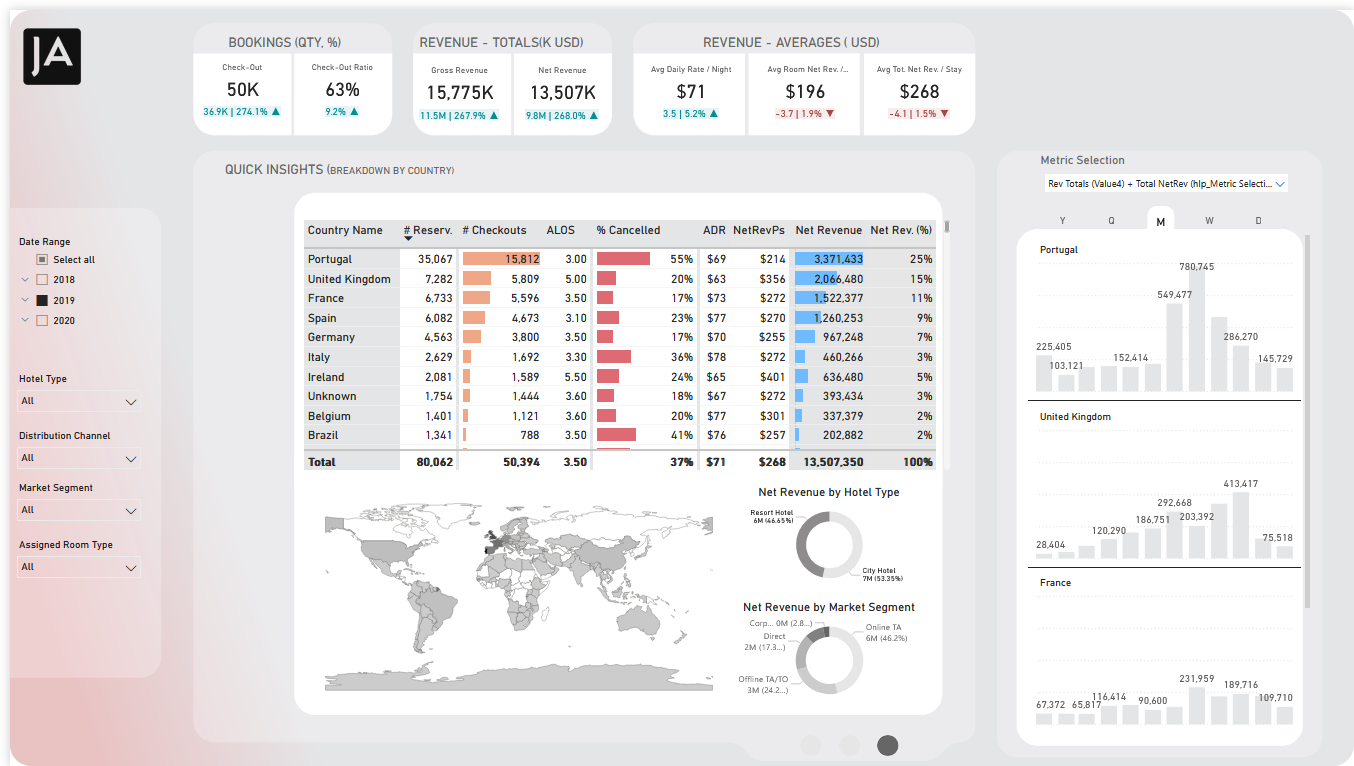

The dashboard page shown, as its layout file describes it:
{"tool":"powerbi","page":{"name":"03","canvas":[1920,1080],"ordinal":2},"visuals":[{"type":"slicer","fields":{"Values":["dim_Calendar.Year","dim_Calendar.MonthShortName"]},"box":[0,315.7,195.7,281.4],"z":0},{"type":"slicer","fields":{"Values":["dim_Hotel Type.Hotel Type"]},"box":[0,511.1,197,82],"z":2000},{"type":"slicer","fields":{"Values":["dim_Distribution Channel.Distribution Channel"]},"box":[0,593.1,197,81],"z":3000},{"type":"slicer","fields":{"Values":["dim_Market Segment.Market Segment"]},"box":[0,667.1,197,82],"z":4000},{"type":"slicer","fields":{"Values":["dim_Assigned Room Type.Assigned Room Type"]},"box":[0,749.1,197,82],"z":5000},{"type":"image","box":[11.4,20,98.6,91.4],"z":6000},{"type":"textbox","box":[294.3,30,195.7,57.1],"z":7000},{"type":"textbox","box":[578,30,246,57],"z":8000},{"type":"textbox","box":[961,30,309,57],"z":9000},{"type":"tableEx","fields":{"Values":["dim_Countries.Country Name","Measures Table.Sep","Measures Table.Reservations","Measures Table.Sep","Measures Table.Checkouts","Measures Table.ALOS","Measures Table.Sep","Measures Table.Cancelled %","Measures Table.Sep","Measures Table.Avg Daily Rate / Night","Measures Table.Avg Tot. Net Rev. / Stay","Measures Table.Sep"]},"box":[414.3,294.3,934.3,368.6],"z":10000},{"type":"textbox","box":[294.3,211.4,352.9,38.6],"z":11000},{"type":"shapeMap","fields":{"Value":["Measures Table.Net Revenue"],"Category":["dim_Countries.Country Name"]},"box":[414.3,674.3,624.3,331.4],"z":12000},{"type":"advancedSlicerVisual","title":"Granularity","fields":{"Values":["hlp_DynamiC Date Selections.Type"]},"box":[1467.1,251.4,355.7,98.6],"z":13000},{"type":"clusteredColumnChart","fields":{"Y":["Measures Table.Net Revenue"],"Rows":["dim_Countries.Country Name"],"Category":["hlp_DynamiC Date Selections.Visual Date"]},"box":[1448.6,315.7,414.3,725.7],"z":14000},{"type":"slicer","title":"Metric Selection","fields":{"Values":["hlp_Metric Selection 1.Value4","hlp_Metric Selection 1.hlp_Metric Selection"]},"box":[1467.1,204.3,370,68.6],"z":15000},{"type":"donutChart","fields":{"Y":["Measures Table.Net Revenue"],"Category":["dim_Hotel Type.Hotel Type"]},"box":[1025.7,678.6,288.6,151.4],"z":16000},{"type":"donutChart","fields":{"Y":["Measures Table.Net Revenue"],"Category":["dim_Market Segment.Market Segment"]},"box":[1017.1,842.9,305.7,152.9],"z":17000},{"type":"cardVisual","fields":{"Data":["Measures Table.Avg Daily Rate / Night","Measures Table.Avg Total Net Revenue / Stay","Measures Table.Avg Tot. Net Rev. / Stay"]},"box":[890,61.4,491.4,120],"z":18000},{"type":"cardVisual","fields":{"Data":["Measures Table.Checkouts YTD","Measures Table.Checkouts Ratio"]},"box":[255.7,58.6,295.7,122.9],"z":19000},{"type":"cardVisual","fields":{"Data":["Measures Table.Gross Revenue","Measures Table.Net Revenue"]},"box":[567.1,58.6,297.1,122.9],"z":20000},{"type":"pageNavigator","box":[1128.6,1035.7,141.4,30],"z":21000}]}

Visuals, with their boxes in screenshot pixels (x1, y1, x2, y2), scaled from the page's 1920x1080 canvas onto the 1354x766 screenshot:
slicer - dim_Calendar.Year x dim_Calendar.MonthShortName: box(0, 224, 138, 423)
slicer - dim_Hotel Type.Hotel Type: box(0, 363, 139, 421)
slicer - dim_Distribution Channel.Distribution Channel: box(0, 421, 139, 478)
slicer - dim_Market Segment.Market Segment: box(0, 473, 139, 531)
slicer - dim_Assigned Room Type.Assigned Room Type: box(0, 531, 139, 589)
image: box(8, 14, 78, 79)
textbox: box(208, 21, 346, 62)
textbox: box(408, 21, 581, 62)
textbox: box(678, 21, 896, 62)
tableEx - dim_Countries.Country Name x Measures Table.Sep: box(292, 209, 951, 470)
textbox: box(208, 150, 456, 177)
shapeMap - Measures Table.Net Revenue x dim_Countries.Country Name: box(292, 478, 732, 713)
"Granularity" advancedSlicerVisual: box(1035, 178, 1285, 248)
clusteredColumnChart - Measures Table.Net Revenue x dim_Countries.Country Name: box(1022, 224, 1314, 739)
"Metric Selection" slicer: box(1035, 145, 1296, 194)
donutChart - Measures Table.Net Revenue x dim_Hotel Type.Hotel Type: box(723, 481, 927, 589)
donutChart - Measures Table.Net Revenue x dim_Market Segment.Market Segment: box(717, 598, 933, 706)
cardVisual - Measures Table.Avg Daily Rate / Night x Measures Table.Avg Total Net Revenue / Stay: box(628, 44, 974, 129)
cardVisual - Measures Table.Checkouts YTD x Measures Table.Checkouts Ratio: box(180, 42, 389, 129)
cardVisual - Measures Table.Gross Revenue x Measures Table.Net Revenue: box(400, 42, 609, 129)
pageNavigator: box(796, 735, 896, 756)
